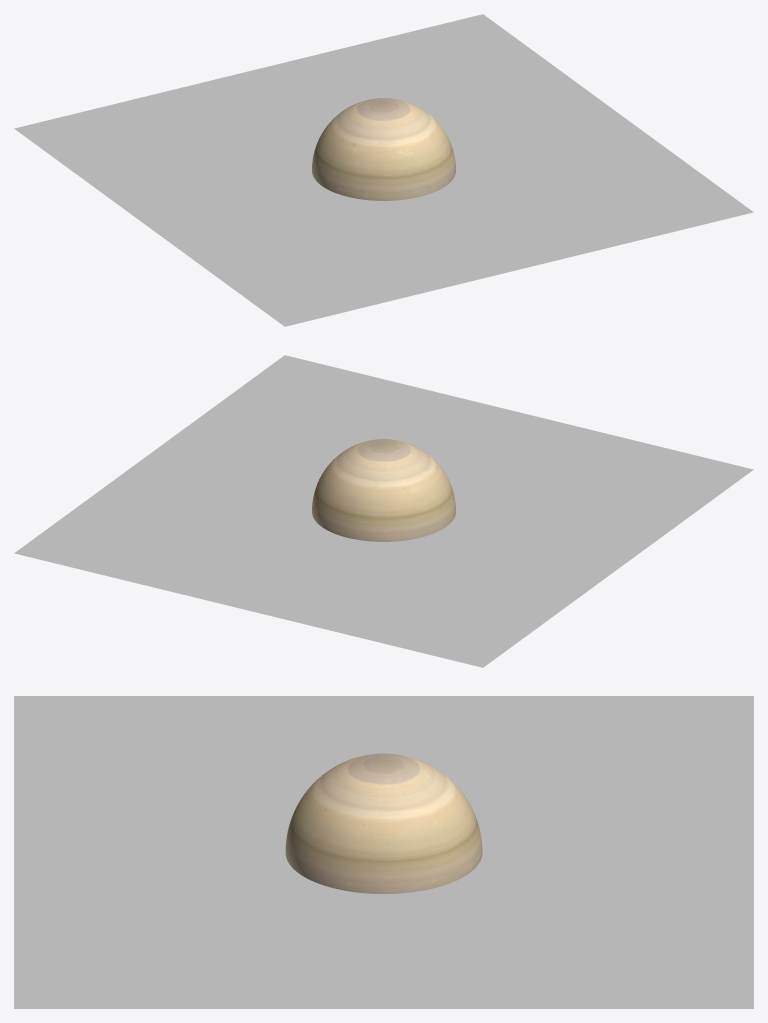
The model's file is saturne.FBX.
3 renders of one model, top to bottom at view 1: azimuth 30°, elevation 25°; view 2: azimuth 150°, elevation 25°; view 3: azimuth 270°, elevation 25°, orthographic. The views are drawn at different scales.
Visible parts, largest first — view 1: Plane001, Sphere001; view 2: Plane001, Sphere001; view 3: Plane001, Sphere001.
Boxes of the visible parts, box(x1,y1,x2,y2) form: Plane001: box(14, 14, 753, 326); Sphere001: box(312, 98, 455, 200); Plane001: box(14, 355, 753, 667); Sphere001: box(312, 439, 455, 541); Plane001: box(14, 696, 753, 1008); Sphere001: box(285, 753, 482, 893).
Bounding box in the file's own units: 419 × 113 × 419.
